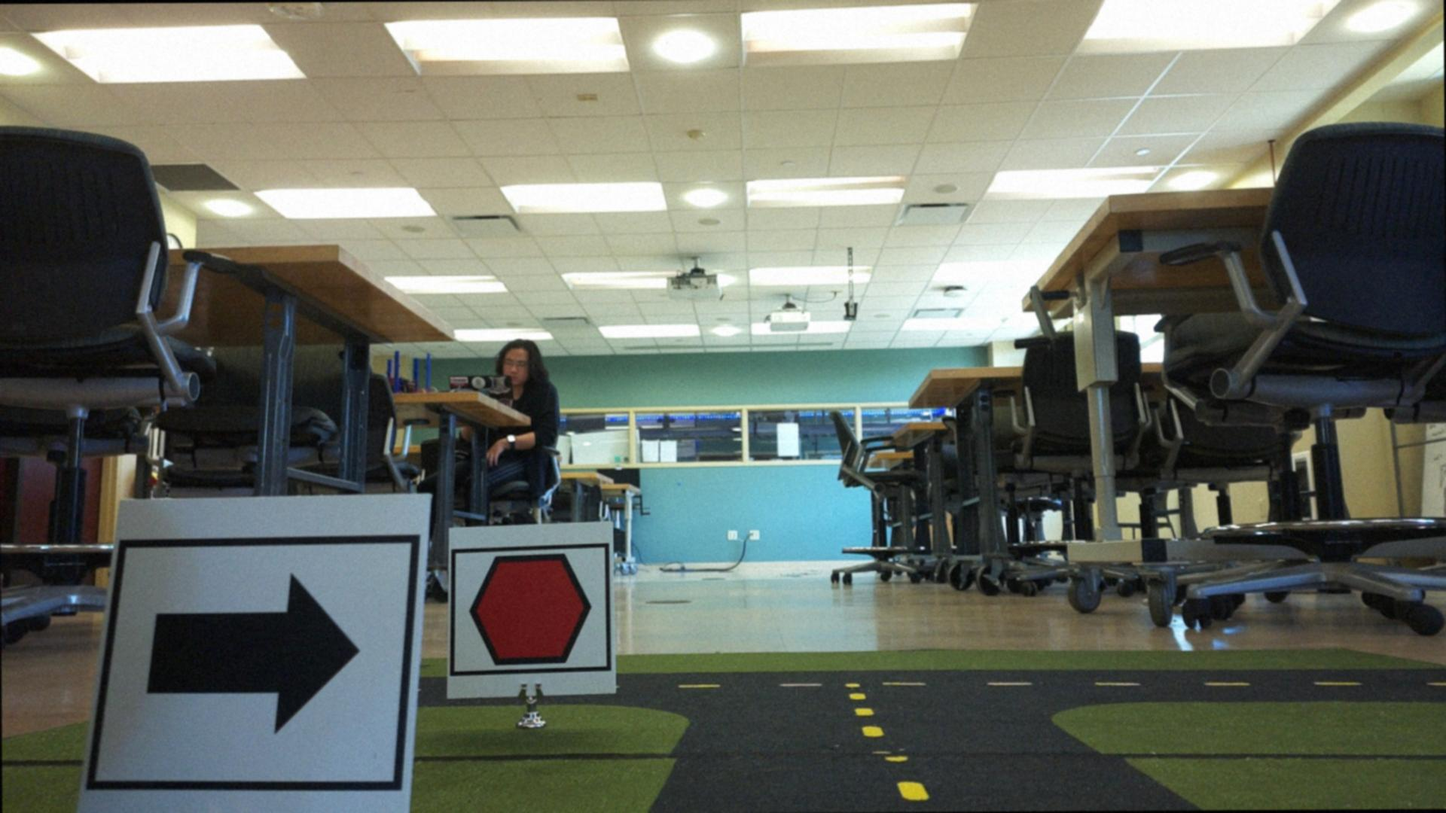stop: (453, 545, 613, 674)
turnright: (119, 543, 389, 786)
yellowline: (848, 689, 928, 802)
